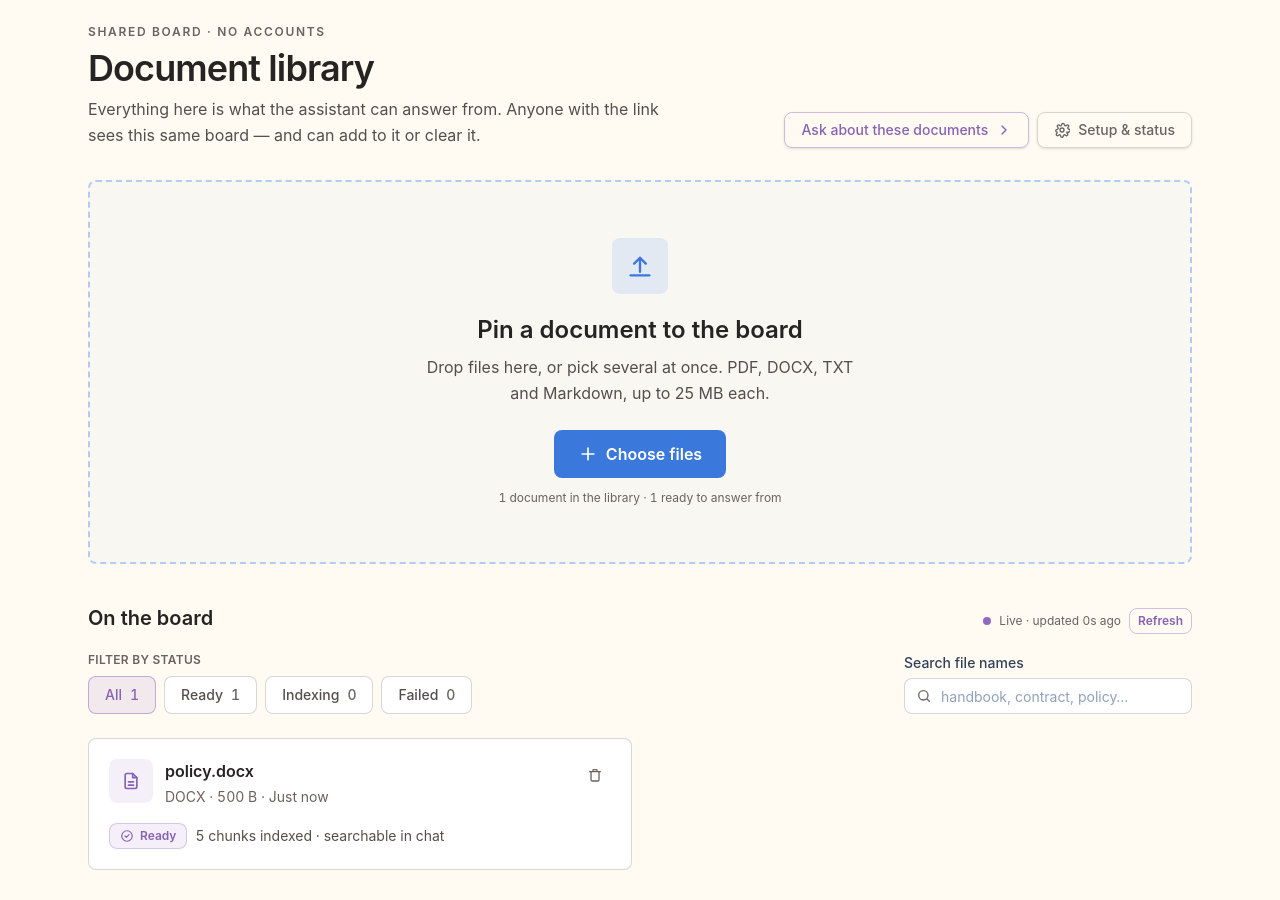
Test case: Documents screen — indexing progress and failures › deletes a document via the real API and removes it from the board
expect the heading "policy.docx" is shown: met, box [165,761,254,781]
Click the button named "delete policy.docx": coordinates (595, 775) [579,759,611,791]
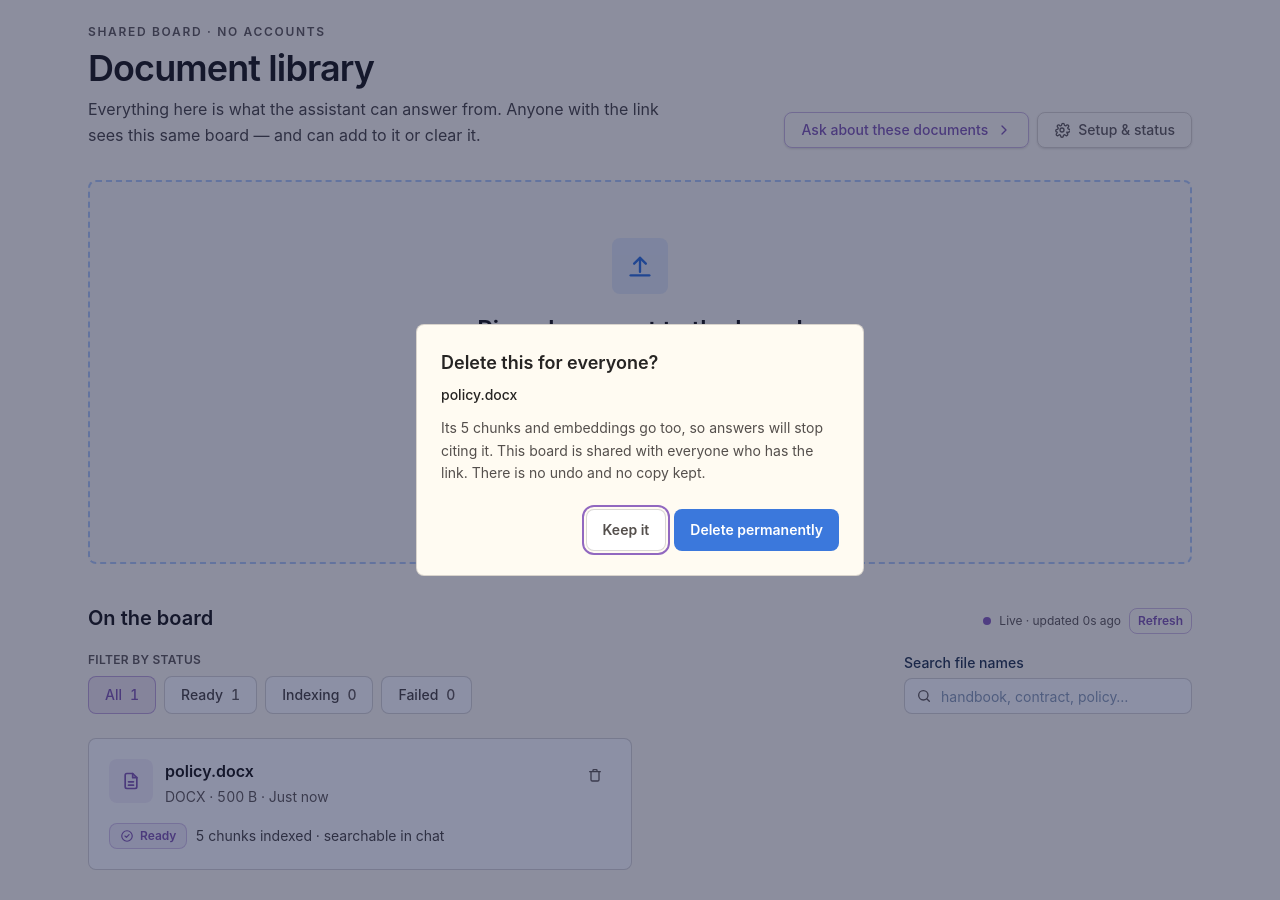
Click the button "Delete permanently": coordinates (757, 530) [674,509,839,551]
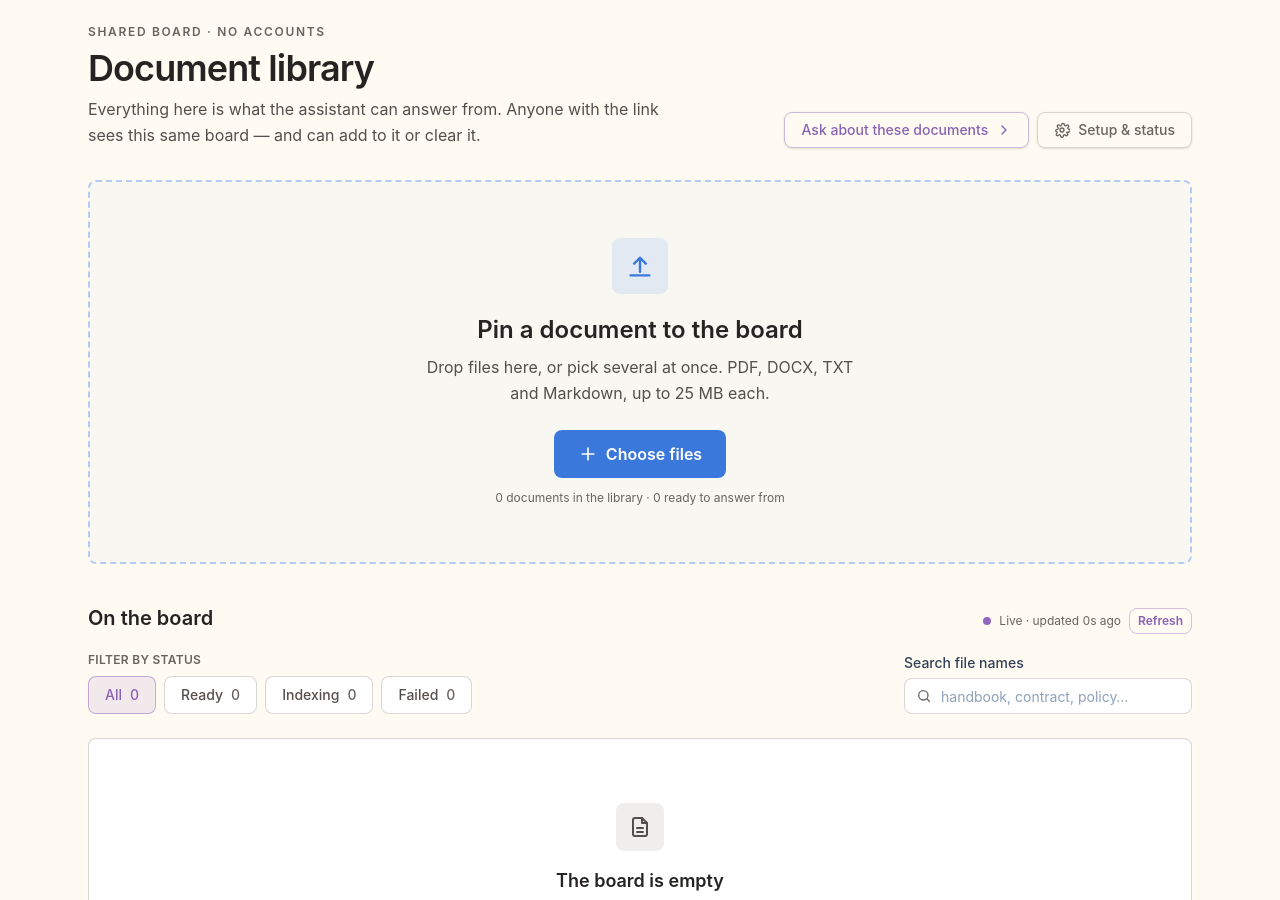
expect the heading "policy.docx" is gone: met
